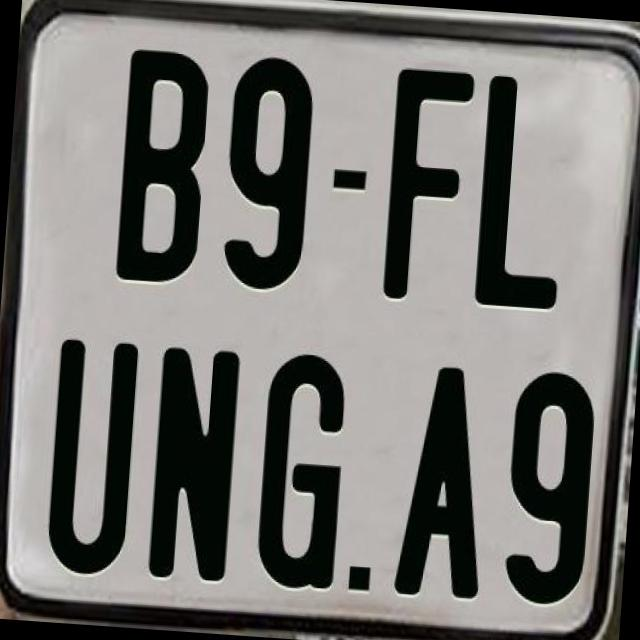9: (219, 54, 320, 300), (501, 370, 596, 610)
A: (391, 364, 495, 609)
B: (112, 44, 210, 288)
F: (382, 65, 476, 301)
G: (251, 352, 354, 596)
L: (471, 73, 571, 312)
N: (146, 342, 244, 586)
U: (43, 333, 145, 578)
